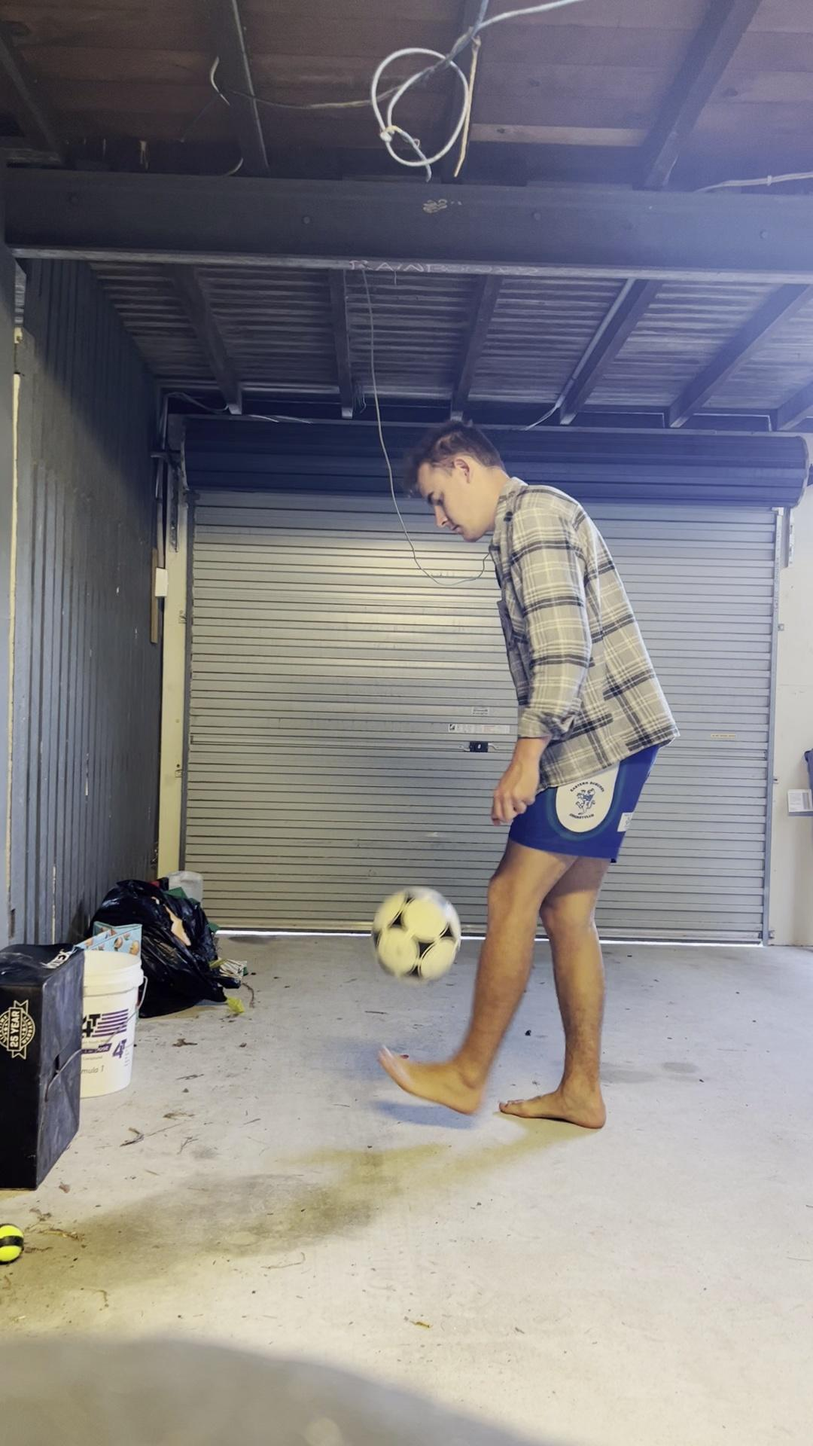ball: (371, 881, 462, 986)
foot: (376, 1045, 495, 1119), (497, 1075, 609, 1133)
person: (377, 425, 672, 1129)
